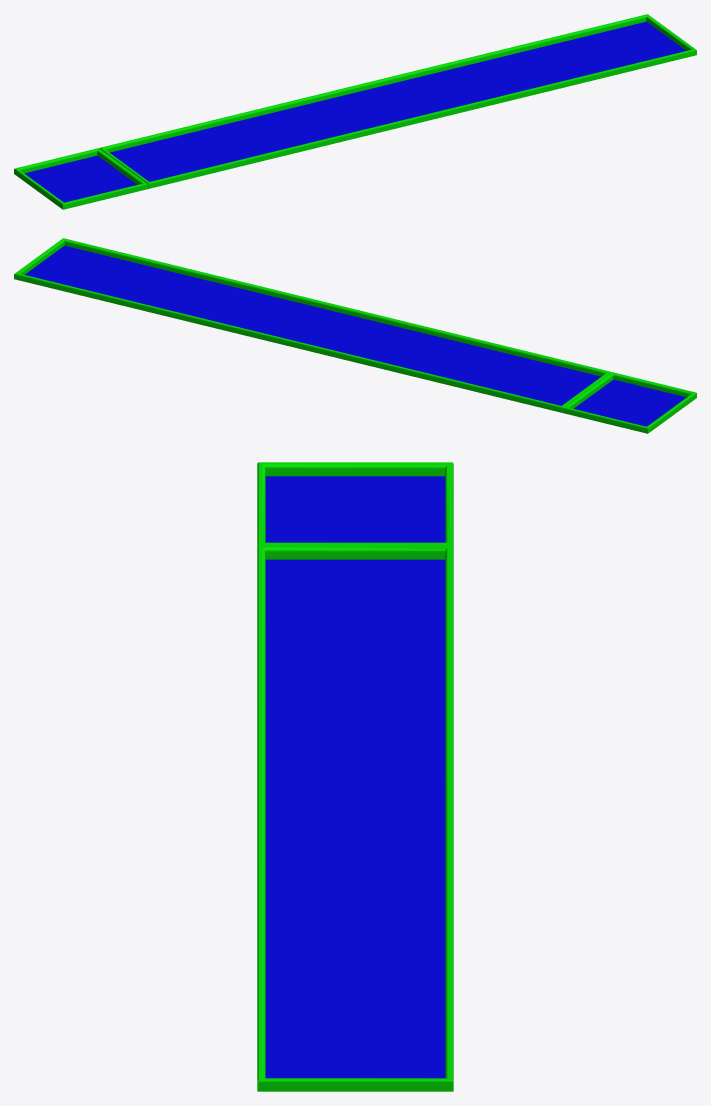
The model's file is FriendsBox.fbx.
3 renders of one model, top to bottom at view 1: azimuth 30°, elevation 25°; view 2: azimuth 150°, elevation 25°; view 3: azimuth 270°, elevation 25°, orthographic. The views are drawn at different scales.
Parts seen in each view (by area): view 1: pCube1, pCube2; view 2: pCube1, pCube2; view 3: pCube1, pCube2.
Boxes of the visible parts, x1,y1,x2,y2 form: pCube1: [99, 14, 696, 188]; pCube2: [14, 148, 147, 209]; pCube1: [14, 238, 611, 412]; pCube2: [563, 372, 696, 433]; pCube1: [257, 545, 453, 1091]; pCube2: [257, 462, 453, 546].
Bounding box in the file's own units: 23.43 × 0.1948 × 3.14.
